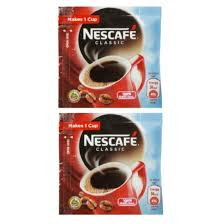nescafe-classic/gold-small: (58, 113, 162, 217), (58, 5, 161, 108)
